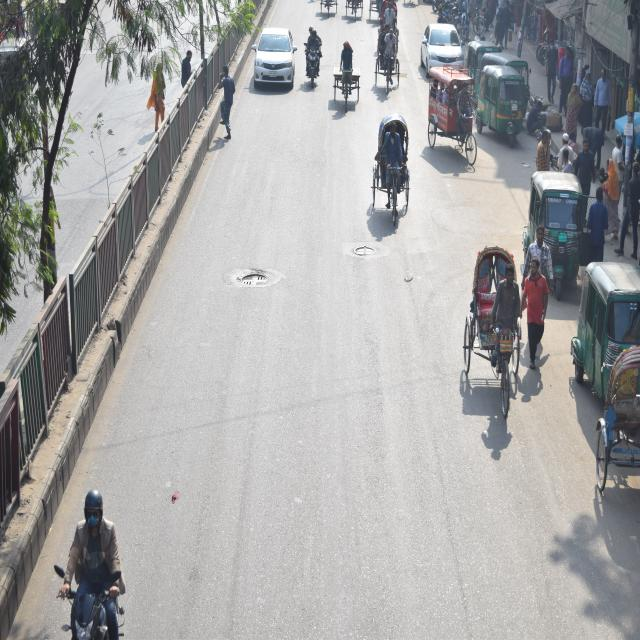car: (250, 20, 294, 95), (416, 18, 465, 73)
motorbike: (57, 535, 136, 640), (302, 33, 324, 91)
